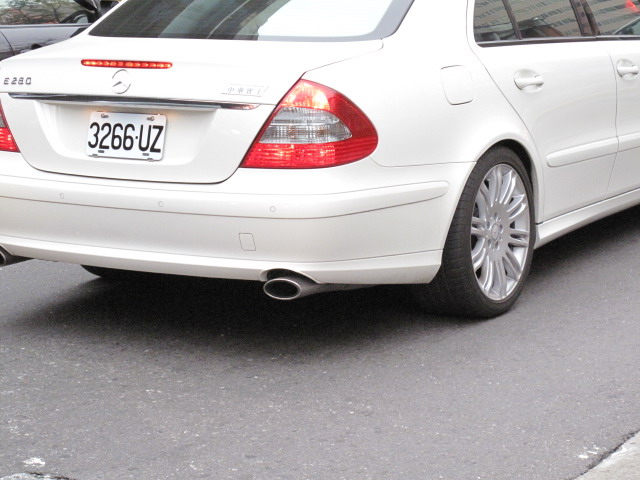plate: (82, 110, 168, 162)
